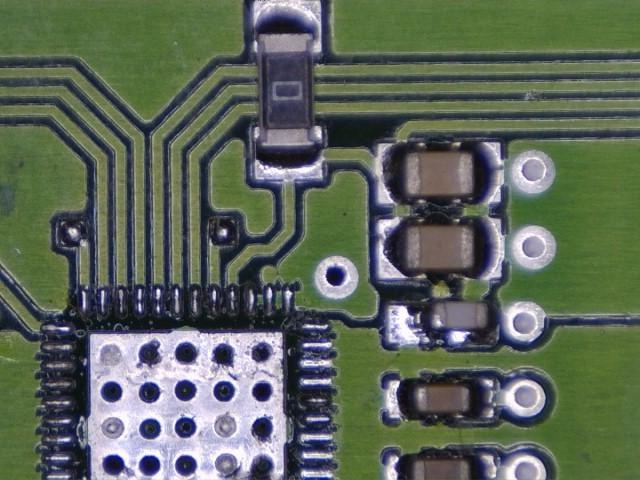pcb_defect: (386, 301, 501, 347)
